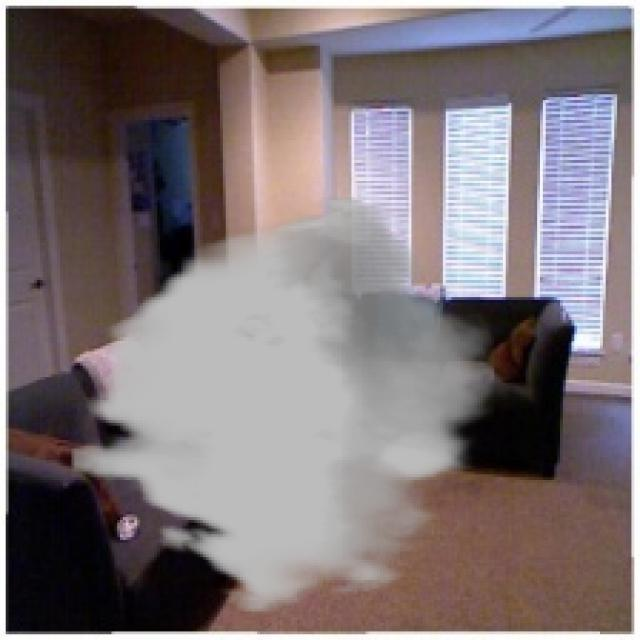Smoke: (72, 195, 494, 614)
